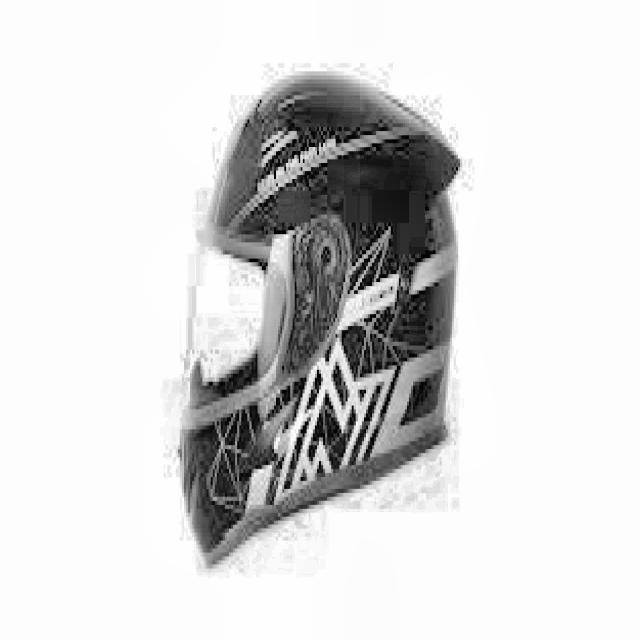Helmet: (167, 52, 477, 598)
